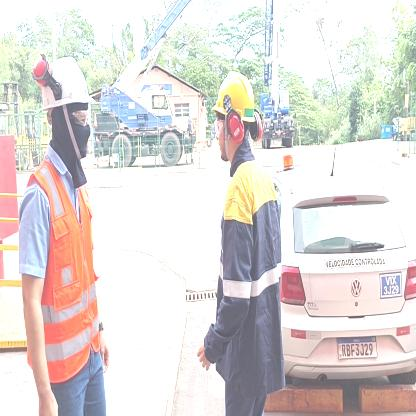Balaclava: (49, 107, 93, 178)
C_eletrica: (217, 164, 285, 388)
Capacete: (31, 51, 99, 106), (210, 68, 266, 125)
colete: (38, 164, 100, 378)
